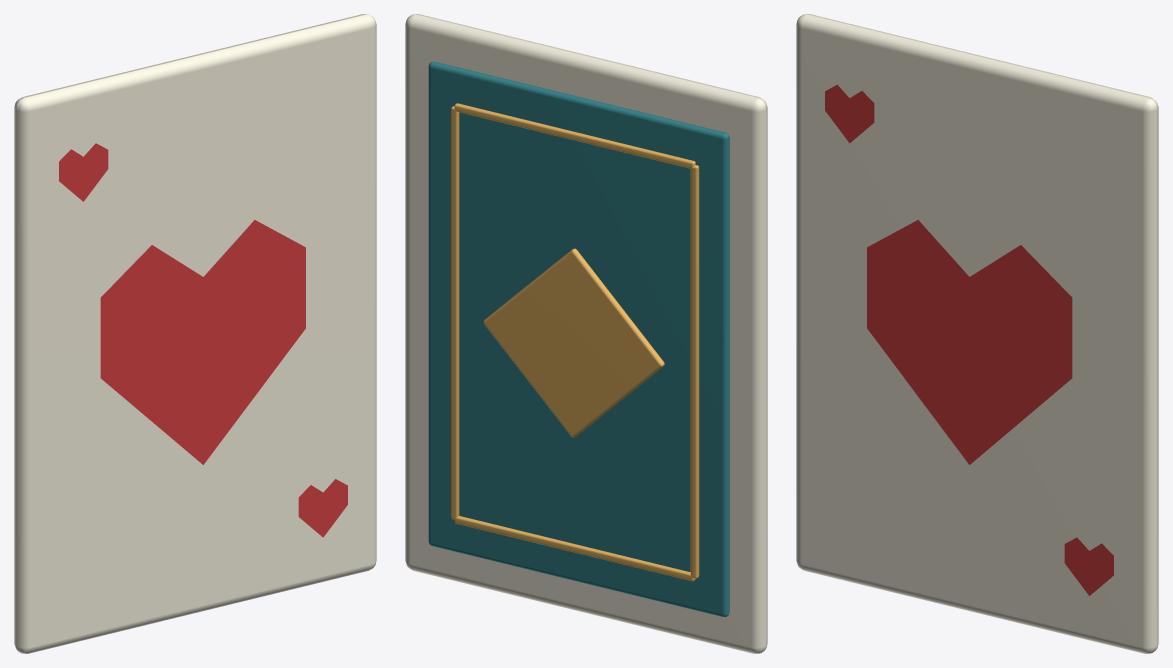
File: q_trick_card.glb
3 renders of one model, left to right at view 1: azimuth 30°, elevation 25°; view 2: azimuth 150°, elevation 25°; view 3: azimuth 330°, elevation 25°, orthographic.
Visible parts, largest first — view 1: q_trick_card / material batches; view 2: q_trick_card / material batches; view 3: q_trick_card / material batches.
Boxes of the visible parts, bbox=[...] form: q_trick_card / material batches: bbox=[14, 14, 376, 653]; q_trick_card / material batches: bbox=[405, 14, 767, 653]; q_trick_card / material batches: bbox=[796, 14, 1158, 653].
Size of the model in its own units: 0.42 by 0.62 by 0.045.
